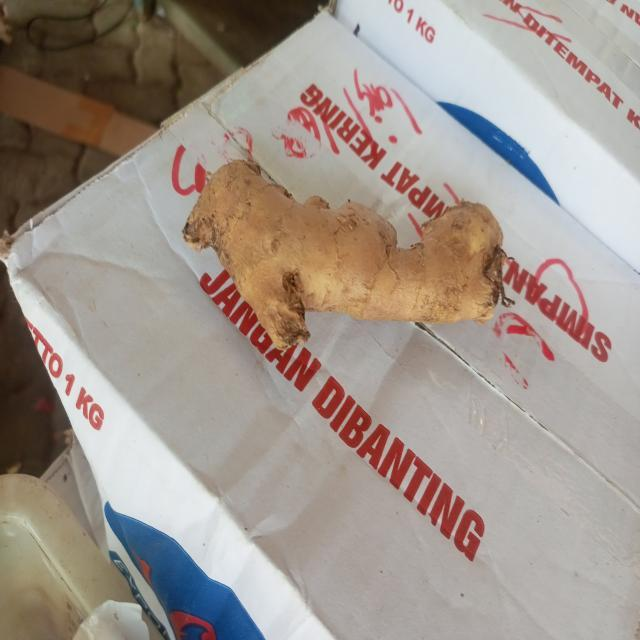ginger: (184, 157, 506, 345)
